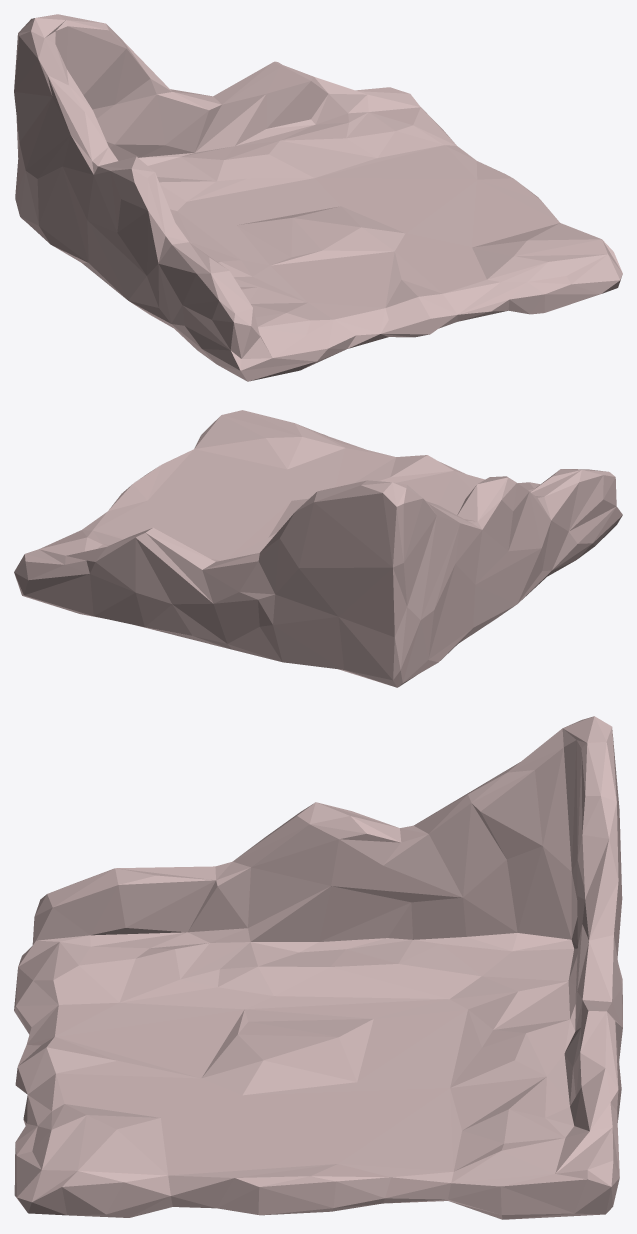
File: floor2.fbx
3 views of the same model, one above another, from view 1: azimuth 30°, elevation 25°; view 2: azimuth 150°, elevation 25°; view 3: azimuth 270°, elevation 25° (orthographic). The views are drawn at different scales.
Parts seen in each view (by area): view 1: player2; view 2: player2; view 3: player2.
Boxes of the visible parts, bbox=[...] form: player2: bbox=[14, 14, 622, 381]; player2: bbox=[14, 410, 622, 687]; player2: bbox=[14, 716, 622, 1219].
Size of the model in its own units: 5.4 by 2.73 by 5.5.
